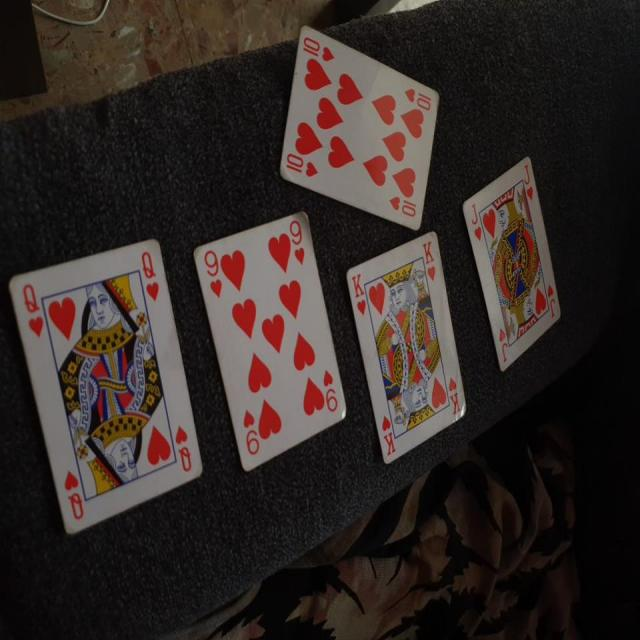10 Hearts: (275, 18, 446, 236)
9 Hearts: (192, 199, 353, 488)
J Hearts: (457, 154, 572, 373)
K Hearts: (340, 226, 470, 467)
Q Hearts: (7, 243, 206, 548)
